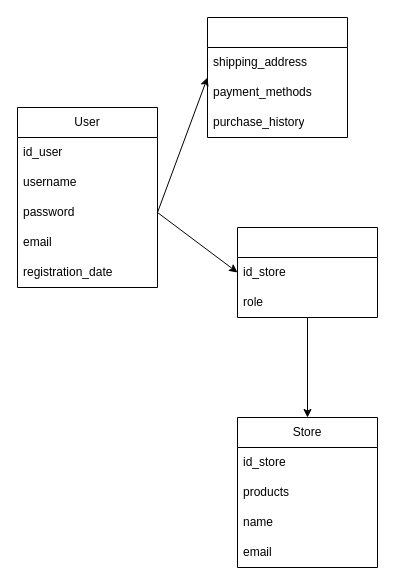
Some shapes in this 395 by 585 pixel diagram are drawn without their labels. The shapes that lost their labels are listed below. From the top down, each one's box as (x1, y1, x2, y2) in pixels, then its label:
(206, 16, 348, 138): Buyer
(236, 226, 378, 318): Seller
